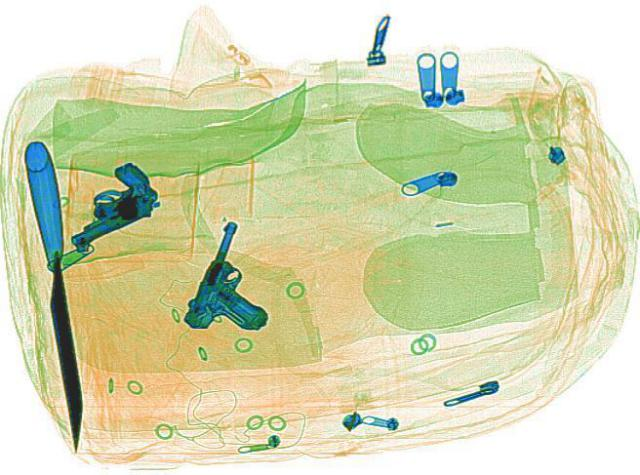Gun: (174, 218, 304, 339), (32, 158, 178, 251)
Knife: (21, 139, 93, 450)
